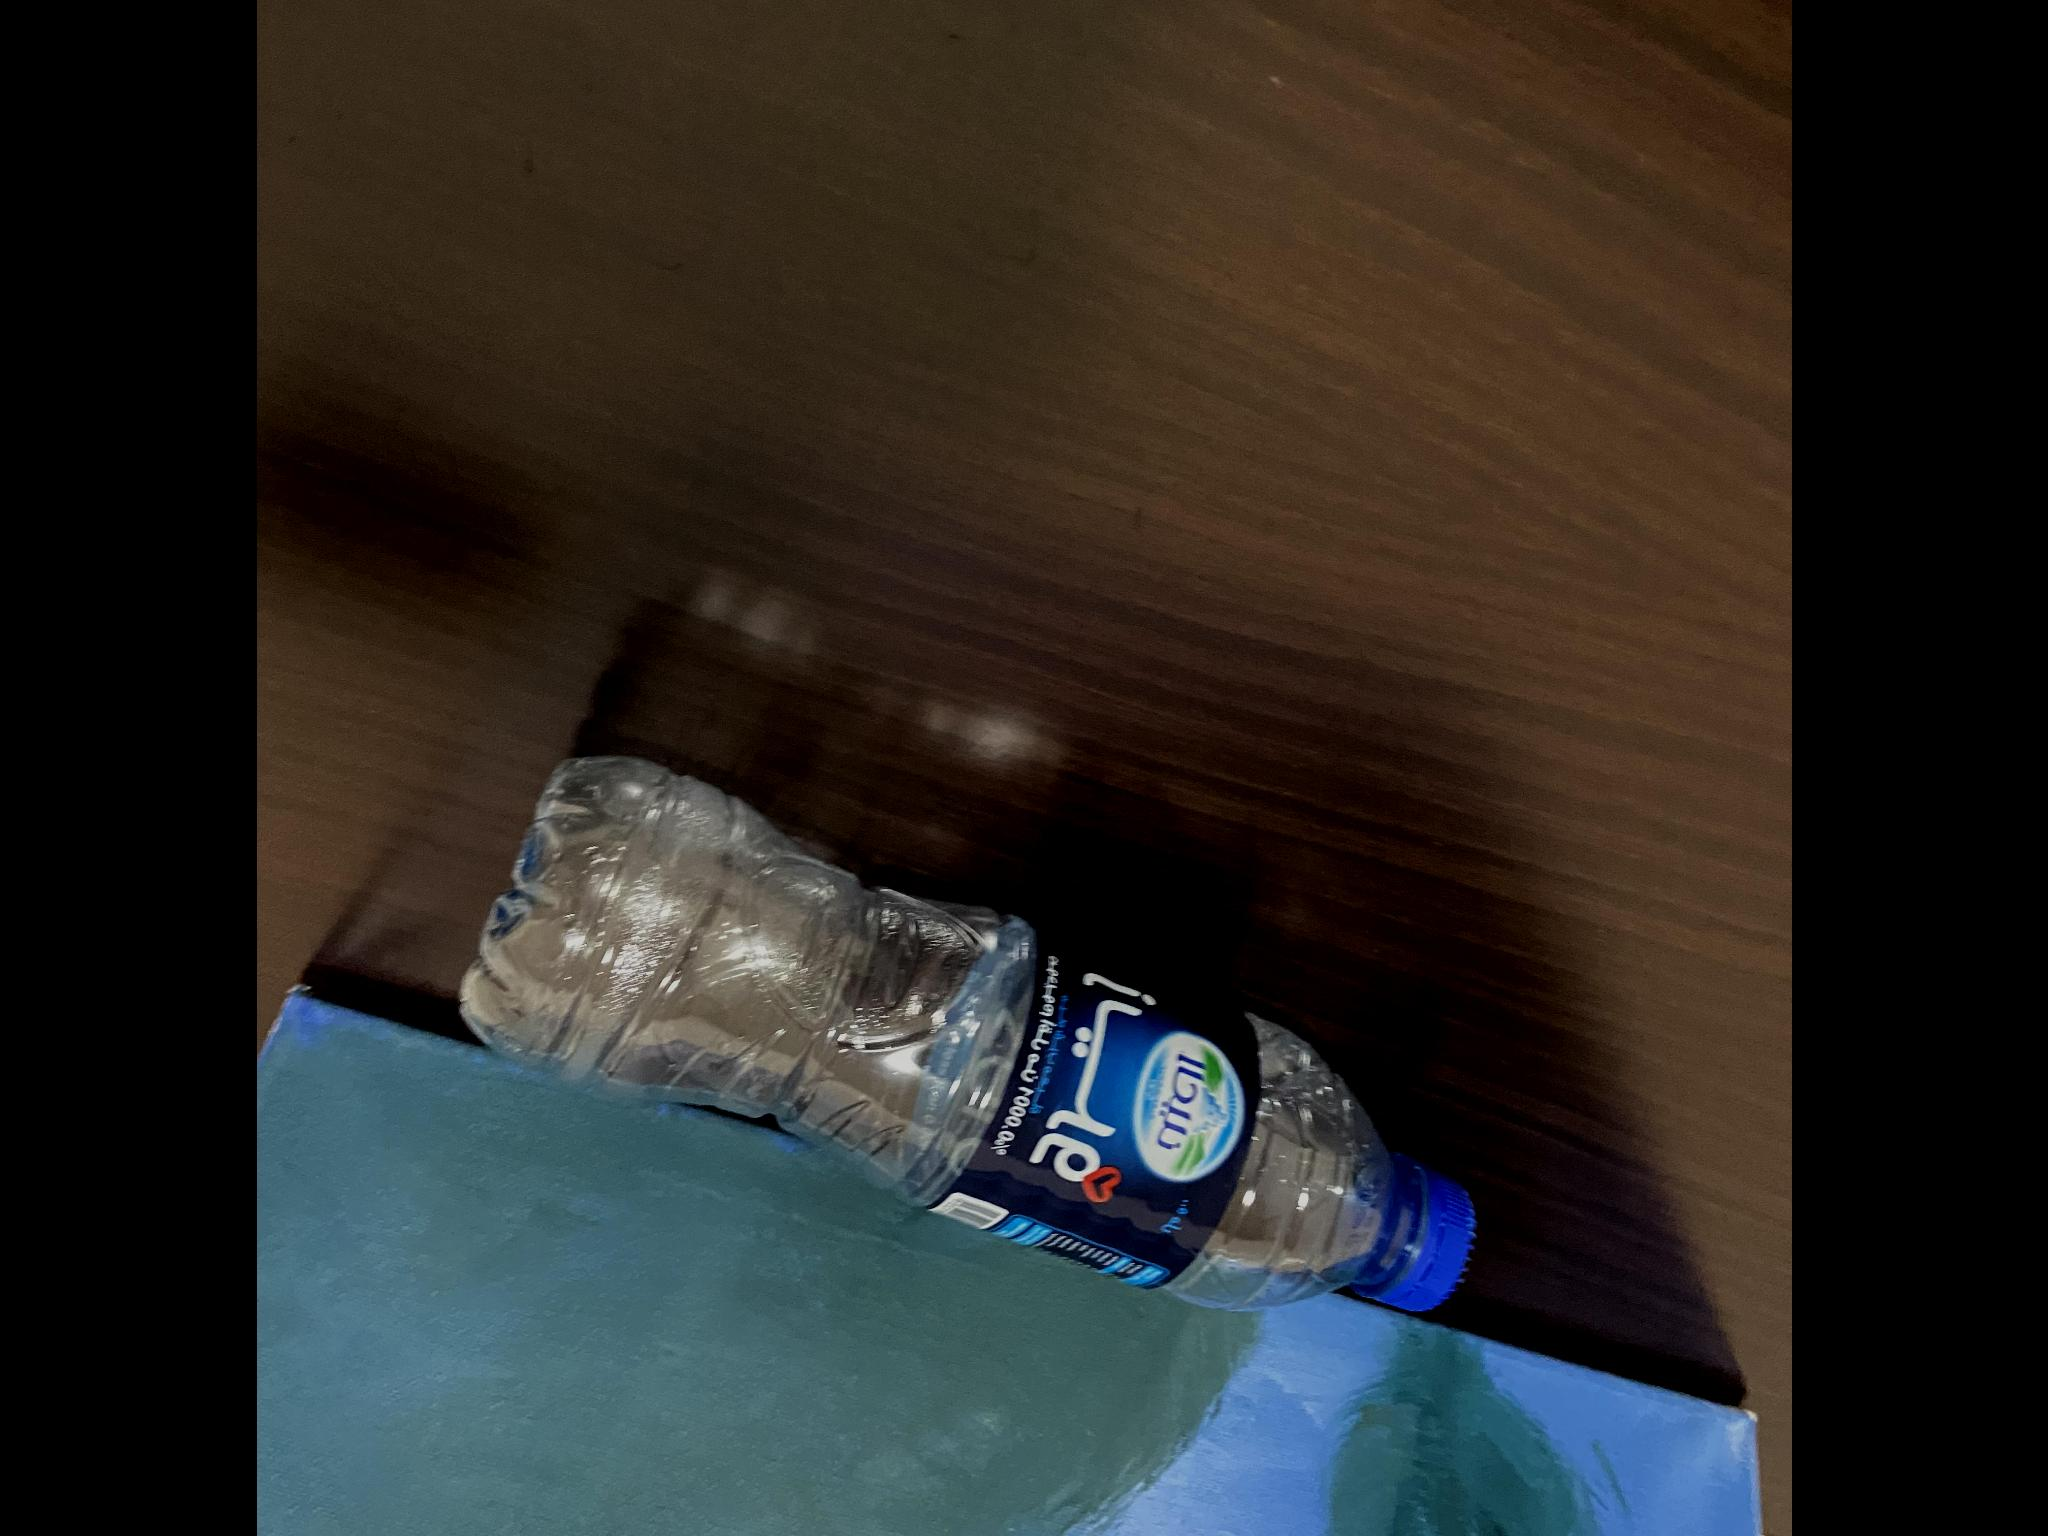bottle: (456, 691, 1485, 1355)
